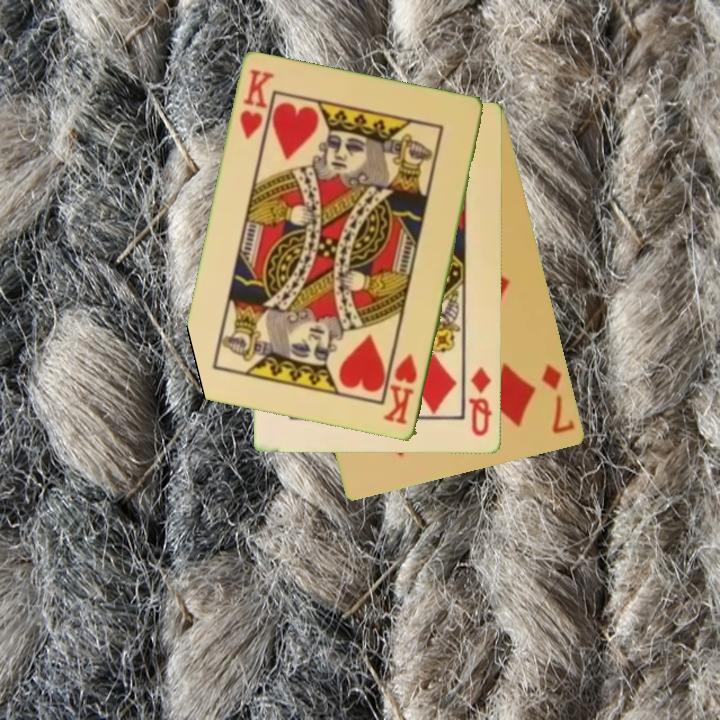7d: (538, 360, 578, 437)
Kh: (236, 66, 277, 142), (381, 351, 421, 428)
Qd: (466, 364, 495, 440)
